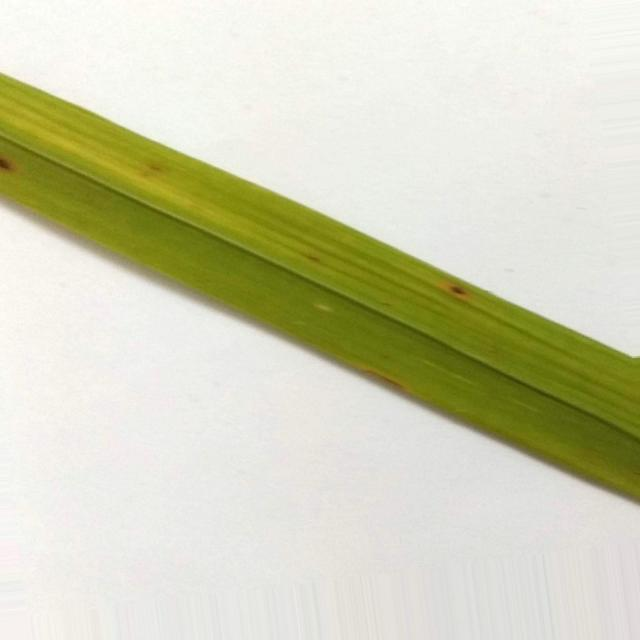Brown_Spot: (445, 281, 469, 300), (0, 156, 12, 170)
